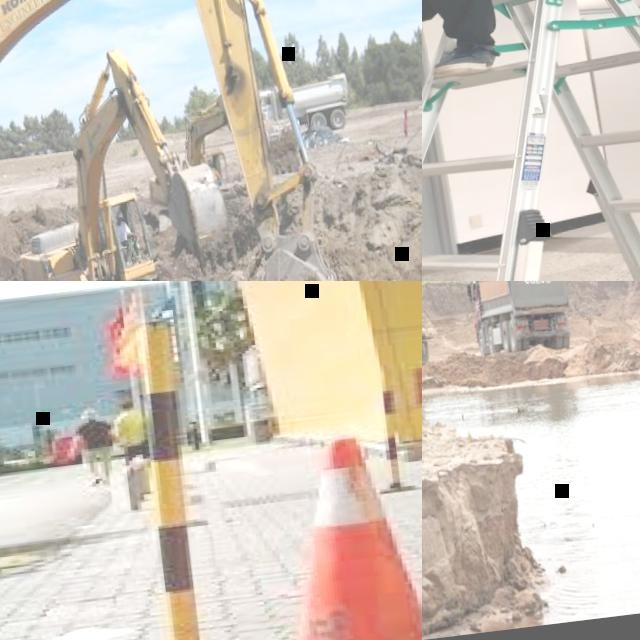Hardhat: (116, 211, 125, 218)
NO-Hardhat: (80, 407, 97, 419), (119, 400, 133, 410)
NO-Mask: (117, 221, 123, 227)
NO-Safety Vest: (116, 411, 147, 445), (79, 422, 113, 450), (116, 222, 129, 242)
Person: (422, 0, 640, 150), (69, 404, 120, 488), (108, 400, 151, 469), (112, 210, 140, 261)
Safety Cone: (226, 419, 422, 640)
machinery: (0, 0, 360, 281), (0, 37, 250, 281), (422, 281, 581, 387), (462, 281, 576, 360), (255, 71, 353, 140)
